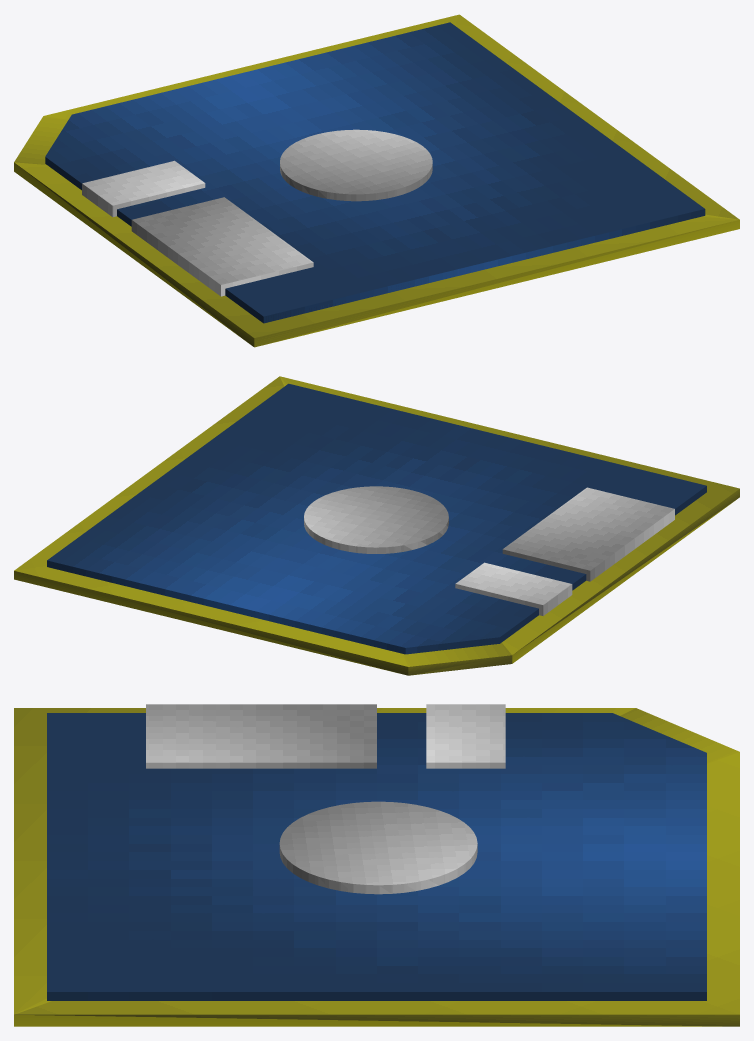
The model's file is FloppyDisk.obj.
3 views of the same model, one above another, from view 1: azimuth 30°, elevation 25°; view 2: azimuth 150°, elevation 25°; view 3: azimuth 270°, elevation 25° (orthographic). The views are drawn at different scales.
Visible parts, largest first — view 1: FloppyDisk; view 2: FloppyDisk; view 3: FloppyDisk.
Boxes of the visible parts, bbox=[...] form: FloppyDisk: bbox=[14, 14, 739, 347]; FloppyDisk: bbox=[14, 376, 739, 675]; FloppyDisk: bbox=[14, 704, 739, 1026].
Size of the model in its own units: 6.6 by 0.45 by 6.6.
